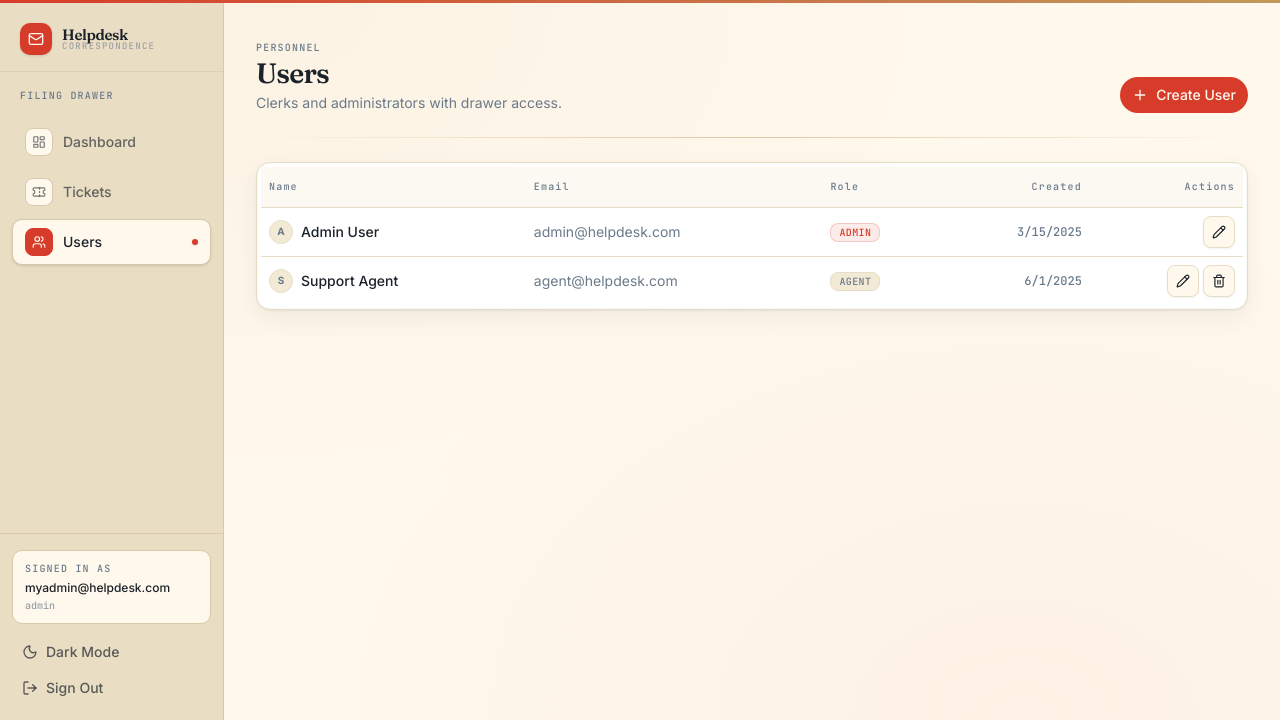
Test: Create User dialog › closes the dialog when clicking outside
The image size is (1280, 720).
Click the button "Create User" at (1184, 95), box [1120,77,1248,113]
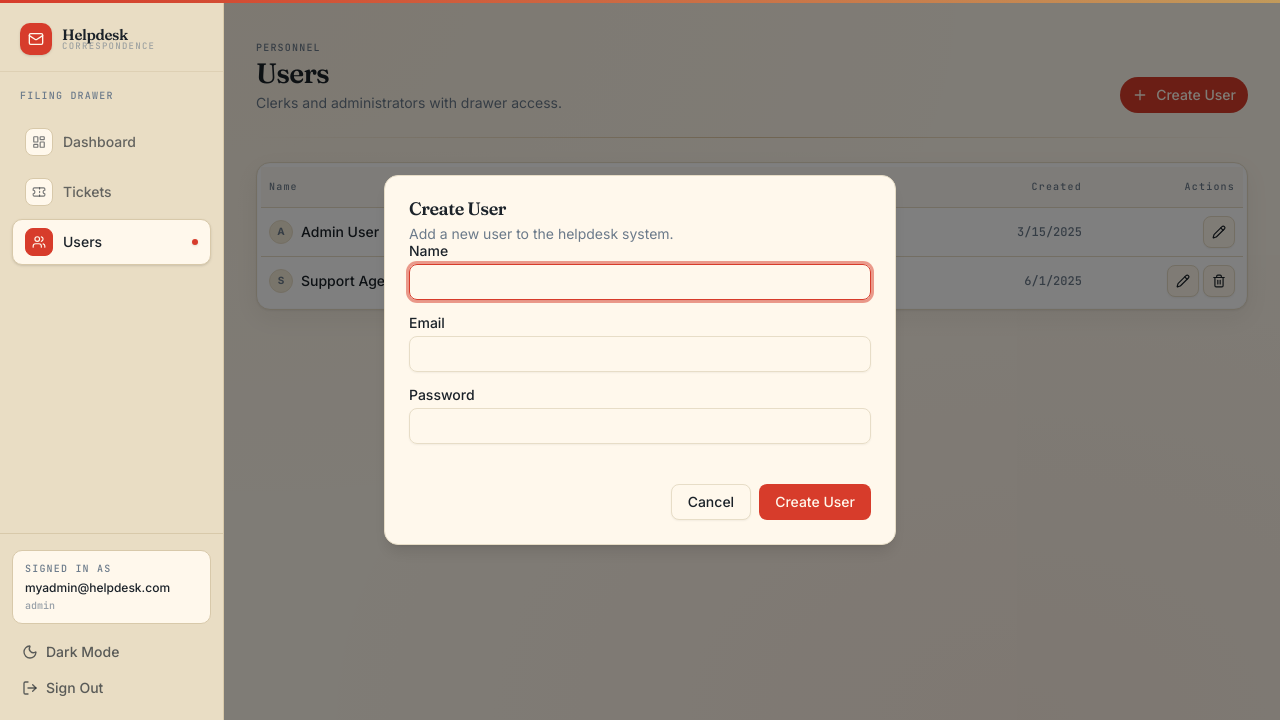
Click the element with class "inset-0" at (1203, 360), box [0,0,1279,719]
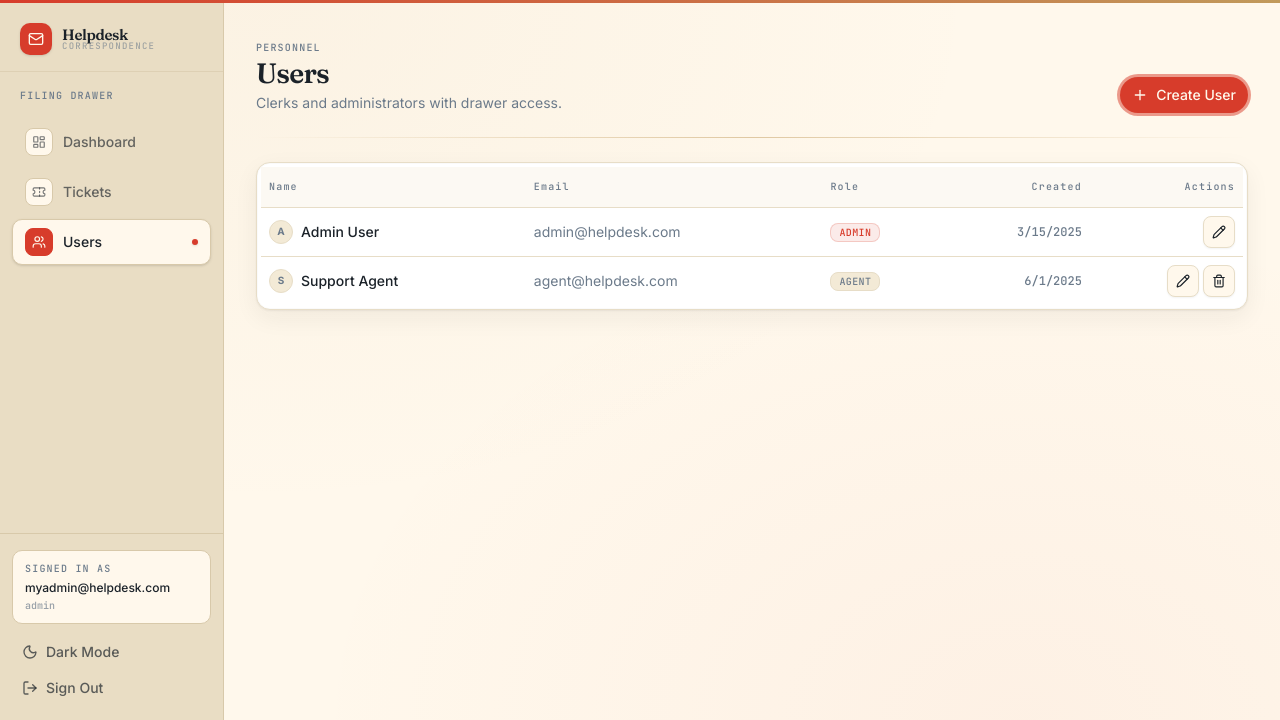
Check: the dialog is gone
